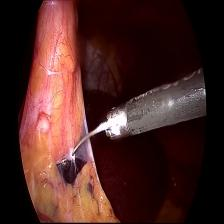Scissors: (68, 100, 135, 160)
